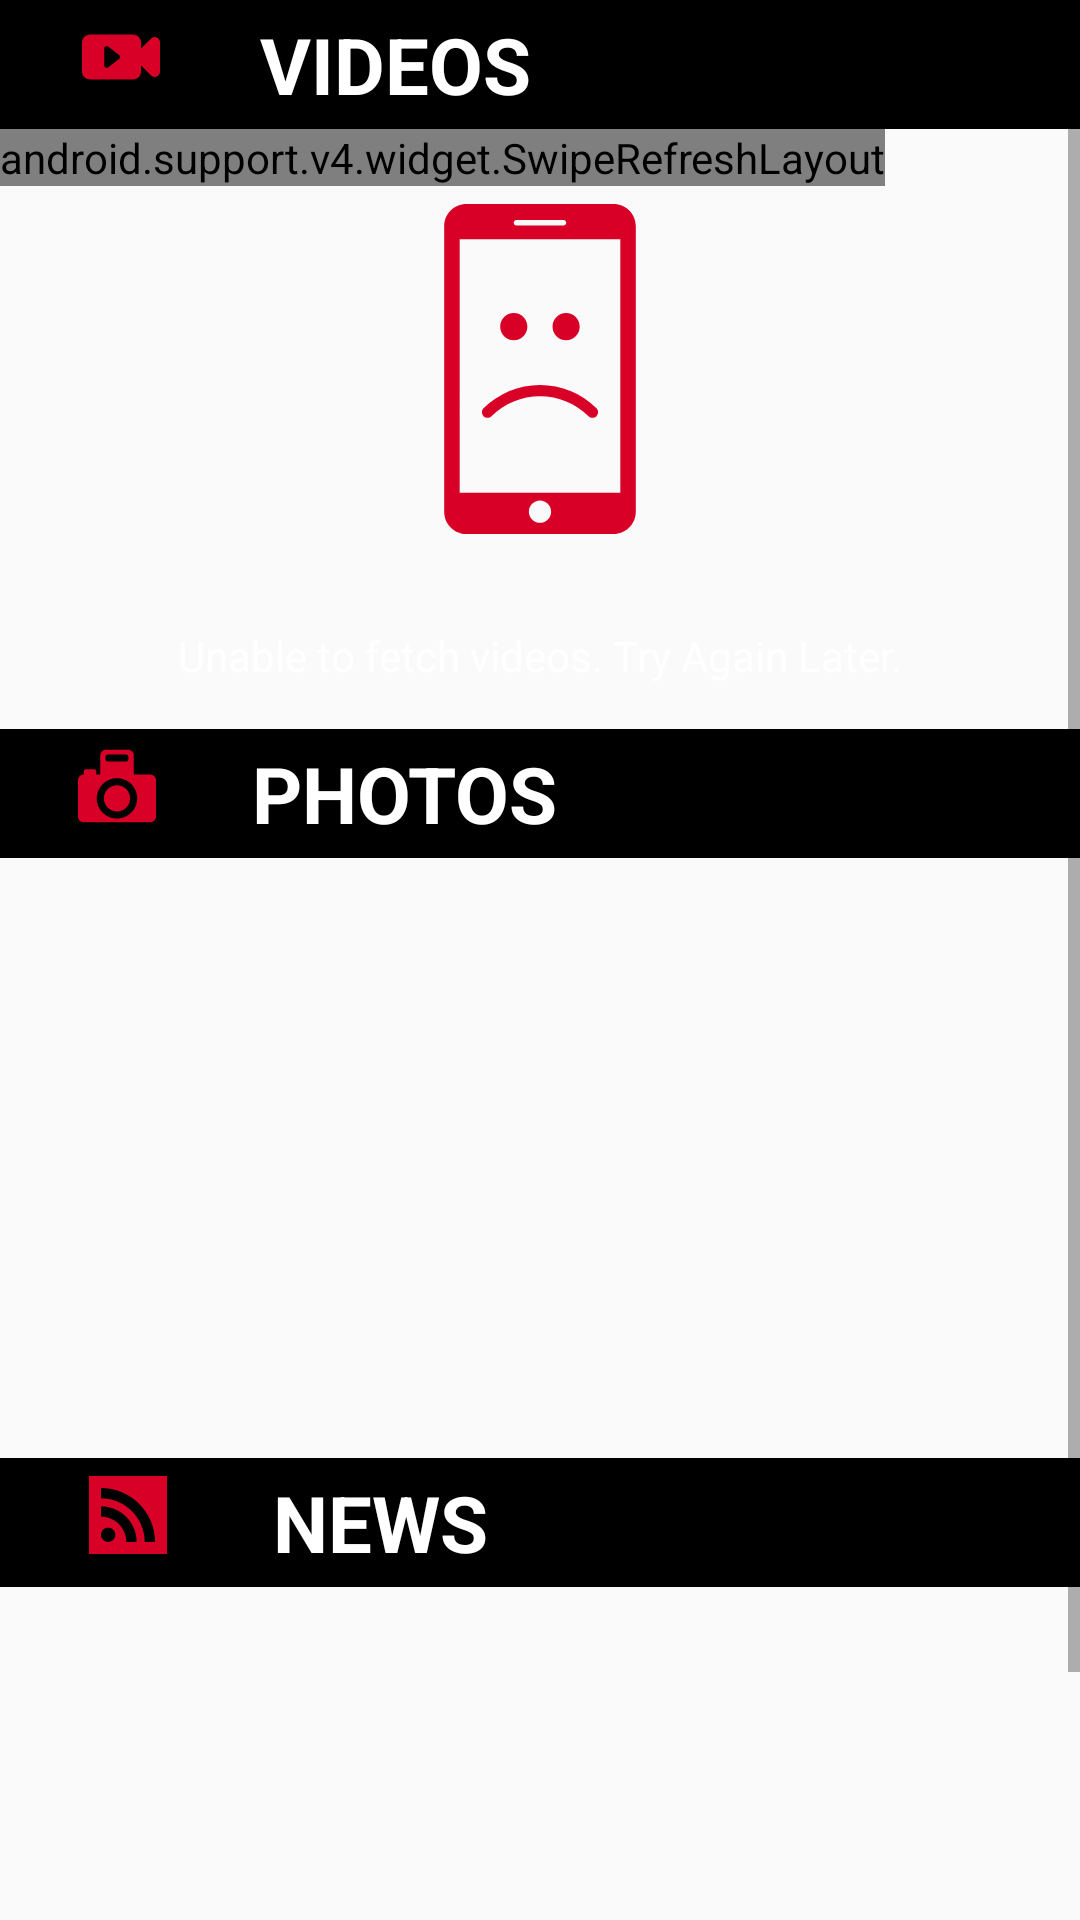

Icons on this 1080 x 1920 Android screen, each with its box as [x1,y1,x2,y2]:
photo camera: [78,749,156,823]
video camera with play: [82,34,160,80]
